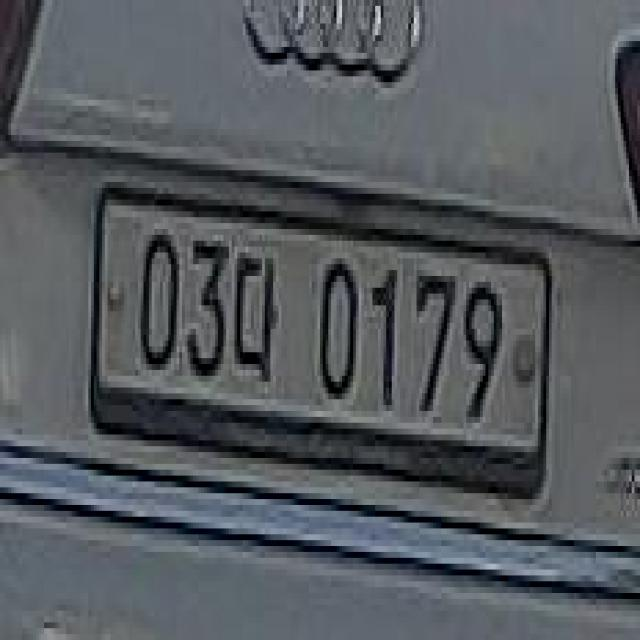illegal_plate: (90, 175, 556, 511)
